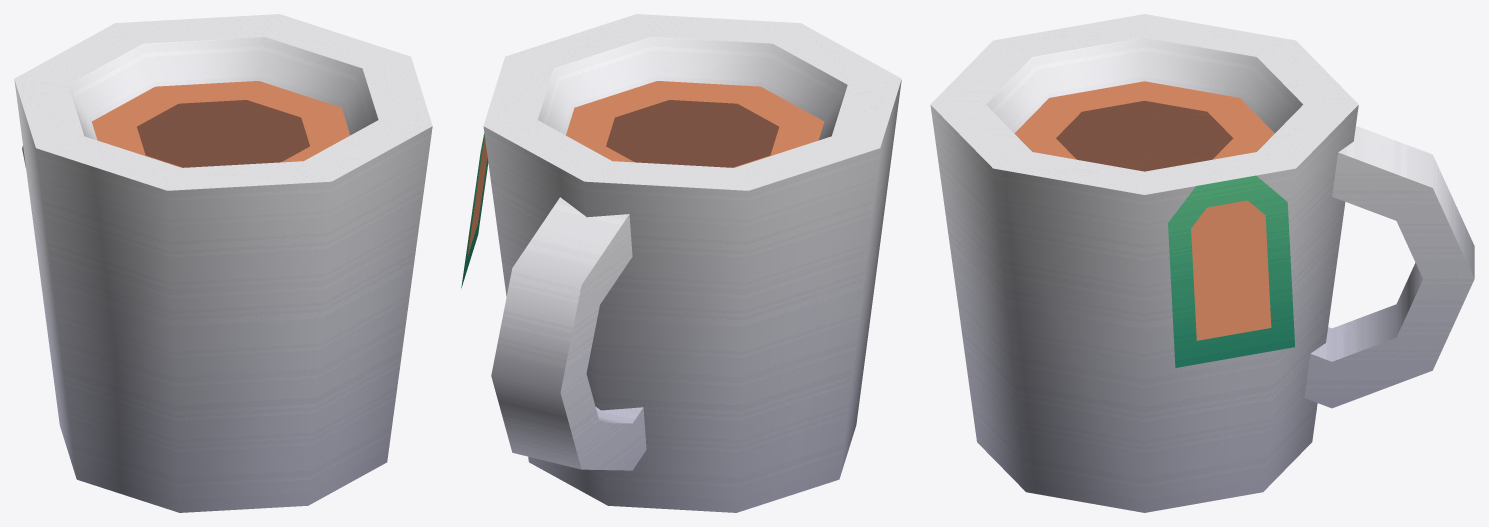
Rendered from cup-tea.glb.
The picture shows the model from 3 angles, left to right: view 1: azimuth 30°, elevation 25°; view 2: azimuth 150°, elevation 25°; view 3: azimuth 270°, elevation 25°; orthographic projection.
Visible parts, largest first — view 1: cup-tea; view 2: cup-tea; view 3: cup-tea.
Boxes of the visible parts, x1,y1,x2,y2 form: cup-tea: (14, 14, 432, 512); cup-tea: (461, 14, 901, 512); cup-tea: (930, 14, 1474, 512).
Size of the model in its own units: 0.2369 by 0.2 by 0.2921.
1 material, 1 textured.
